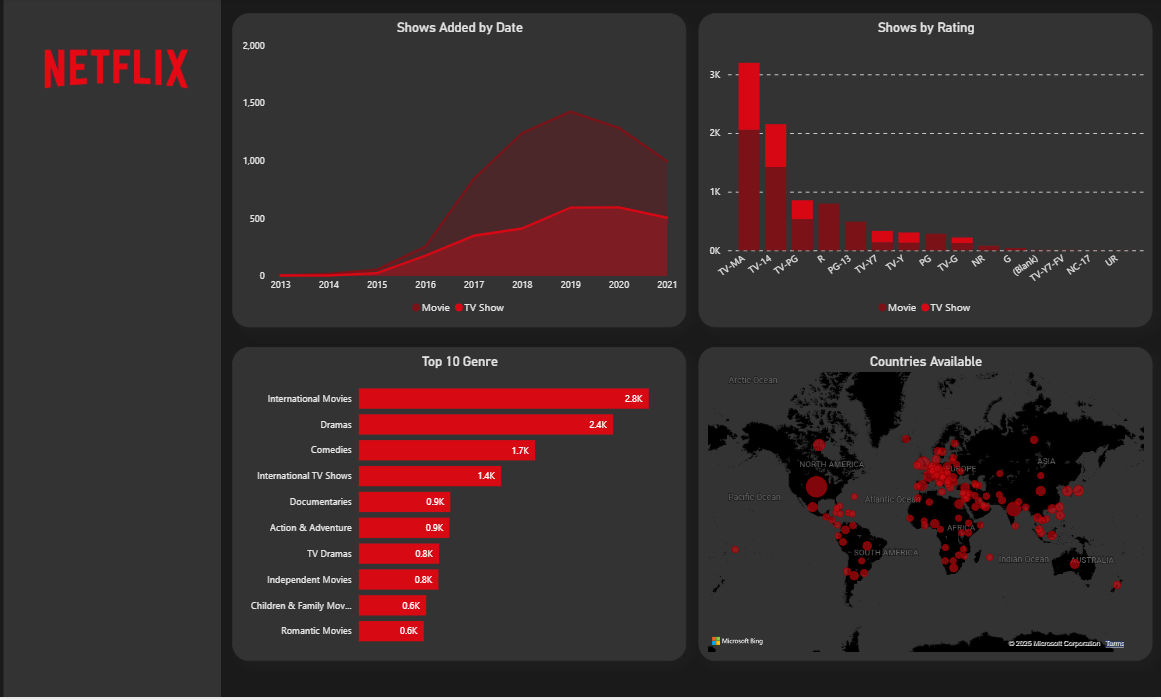

The page's visual inventory and layout, read from the dashboard file:
{"tool":"powerbi","page":{"name":"Overview","canvas":[1500,900],"ordinal":0},"visuals":[{"type":"shape","box":[9.6,0,279.8,900.5],"z":0},{"type":"areaChart","title":"Shows Added by Date","fields":{"Category":["netflix_data titles.date_added.Variation.Date Hierarchy.Year"],"Y":["CountNonNull(netflix_data titles.show_id)"],"Series":["netflix_data titles.type"]},"box":[303.9,20.9,583.7,403.6],"z":1000},{"type":"columnChart","title":"Shows by Rating","fields":{"Category":["netflix_data titles.rating"],"Y":["CountNonNull(netflix_data titles.show_id)"],"Series":["netflix_data titles.type"]},"box":[903.7,20.9,583.7,403.6],"z":2000},{"type":"clusteredBarChart","title":"Top 10 Genre","fields":{"Category":["netflix_data netflix_listed_in.category"],"Y":["CountNonNull(netflix_data netflix_listed_in.show_id)"]},"box":[303.9,450.3,583.7,403.6],"z":3000},{"type":"map","title":"Countries Available","fields":{"Category":["netflix_data countries_released.country"],"Size":["CountNonNull(netflix_data countries_released.show_id)"]},"box":[903.7,450.3,583.7,403.6],"z":4000},{"type":"image","box":[20.9,20.9,268.5,136.7],"z":5000}]}

Visuals, with their boxes in screenshot pixels (x1, y1, x2, y2), scaled from the page's 1500x900 canvas onto the 1161x700 screenshot:
shape: [7,0,224,699]
"Shows Added by Date" areaChart: [235,16,687,330]
"Shows by Rating" columnChart: [699,16,1151,330]
"Top 10 Genre" clusteredBarChart: [235,350,687,664]
"Countries Available" map: [699,350,1151,664]
image: [16,16,224,123]
